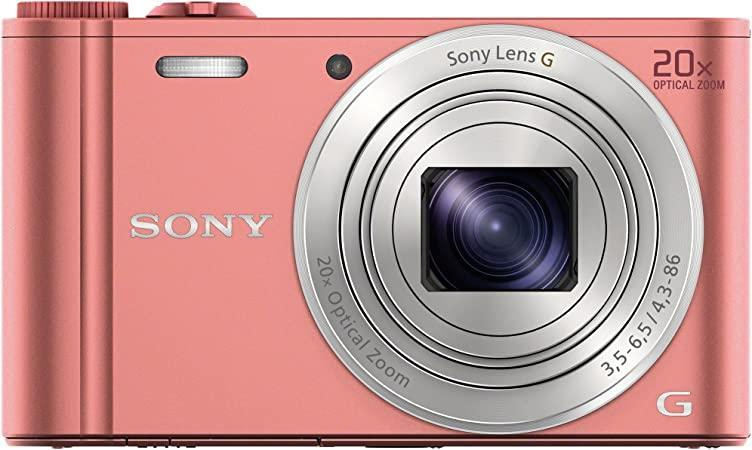degital-camera: (0, 2, 752, 450)
